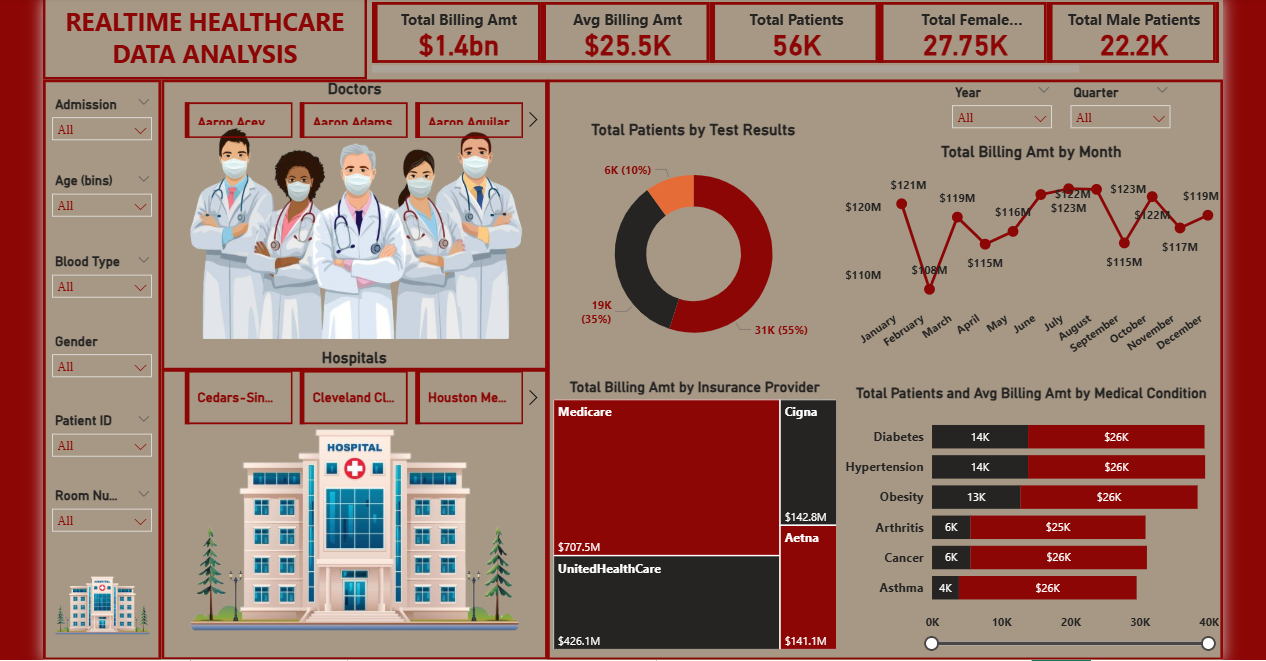

The dashboard page shown, as its layout file describes it:
{"tool":"powerbi","page":{"name":"MAIN PAGE","canvas":[1280,720],"ordinal":0},"visuals":[{"type":"shape","box":[547.1,89.6,733.2,629.8],"z":0},{"type":"image","box":[128.2,89.6,419,317],"z":1000},{"type":"shape","box":[128.2,89.6,419,315.6],"z":2000},{"type":"shape","box":[0,89.6,128.2,629.8],"z":3000},{"type":"textbox","box":[0,0,351.4,89.6],"z":4000},{"type":"cardVisual","fields":{"Data":["MEASURE TABLE.Total Billing Amt","MEASURE TABLE.Avg Billing Amt","MEASURE TABLE.Total Patients","MEASURE TABLE.Total Female Patients","MEASURE TABLE.Total Male Patients","MEASURE TABLE.Non-Binary Patients"]},"box":[351.4,0,928.9,89.6],"z":5000},{"type":"shape","box":[128.2,403.8,419,315.6],"z":6000},{"type":"image","box":[128.2,435.5,419,283.9],"z":7000},{"type":"advancedSlicerVisual","fields":{"Values":["Data.Doctor"]},"box":[128.2,89.6,419,68.9],"z":8000},{"type":"advancedSlicerVisual","fields":{"Values":["Data.Hospital"]},"box":[128.5,380.6,418,87.8],"z":9000},{"type":"slicer","fields":{"Values":["Data.Admission Type"]},"box":[0,102,128.2,74.4],"z":10000},{"type":"slicer","fields":{"Values":["Data.Age (bins)"]},"box":[0,186,128.2,74.4],"z":11000},{"type":"slicer","fields":{"Values":["Data.Patient ID"]},"box":[0,445.1,128.2,74.4],"z":12000},{"type":"slicer","fields":{"Values":["Data.Blood Type"]},"box":[0,272.9,128.2,74.4],"z":13000},{"type":"slicer","fields":{"Values":["Data.Gender"]},"box":[0,359.7,128.2,74.4],"z":14000},{"type":"image","box":[0,606.4,128.2,106.1],"z":15000},{"type":"donutChart","fields":{"Category":["Data.Test Results"],"Y":["MEASURE TABLE.Total Patients"]},"box":[546.5,133.9,317.3,270.2],"z":16000},{"type":"treemap","fields":{"Group":["Data.Insurance Provider"],"Values":["MEASURE TABLE.Total Billing Amt"]},"box":[547.7,413.8,317.3,299.2],"z":17000},{"type":"barChart","fields":{"Category":["Data.Medical Condition"],"Y":["MEASURE TABLE.Total Patients","MEASURE TABLE.Avg Billing Amt"]},"box":[864.1,420.3,416.2,292.2],"z":18000},{"type":"slicer","fields":{"Values":["Data.Room Number"]},"box":[0,526.4,128.2,74.4],"z":19000},{"type":"lineChart","fields":{"Category":["Admission_Date.Date.Variation.Date Hierarchy.Month"],"Y":["MEASURE TABLE.Total Billing Amt"]},"box":[864.1,158.5,416.2,248.1],"z":20000},{"type":"slicer","fields":{"Values":["Admission_Date.Date.Variation.Date Hierarchy.Quarter"]},"box":[1103.9,89.6,128.2,68.9],"z":21000},{"type":"slicer","fields":{"Values":["Admission_Date.Date.Variation.Date Hierarchy.Year"]},"box":[975.7,89.6,128.2,68.9],"z":22000}]}

Visuals, with their boxes on the page's 1280x720 design canvas (x1, y1, x2, y2). These are canvas units, not pixel positions in the 1266x661 screenshot, which may show the page scaled, cropped or inside an application window:
shape: box=[547, 90, 1280, 719]
image: box=[128, 90, 547, 407]
shape: box=[128, 90, 547, 405]
shape: box=[0, 90, 128, 719]
textbox: box=[0, 0, 351, 90]
cardVisual - MEASURE TABLE.Total Billing Amt x MEASURE TABLE.Avg Billing Amt: box=[351, 0, 1280, 90]
shape: box=[128, 404, 547, 719]
image: box=[128, 436, 547, 719]
advancedSlicerVisual - Data.Doctor: box=[128, 90, 547, 158]
advancedSlicerVisual - Data.Hospital: box=[128, 381, 546, 468]
slicer - Data.Admission Type: box=[0, 102, 128, 176]
slicer - Data.Age (bins): box=[0, 186, 128, 260]
slicer - Data.Patient ID: box=[0, 445, 128, 520]
slicer - Data.Blood Type: box=[0, 273, 128, 347]
slicer - Data.Gender: box=[0, 360, 128, 434]
image: box=[0, 606, 128, 712]
donutChart - Data.Test Results x MEASURE TABLE.Total Patients: box=[546, 134, 864, 404]
treemap - Data.Insurance Provider x MEASURE TABLE.Total Billing Amt: box=[548, 414, 865, 713]
barChart - Data.Medical Condition x MEASURE TABLE.Total Patients: box=[864, 420, 1280, 712]
slicer - Data.Room Number: box=[0, 526, 128, 601]
lineChart - Admission_Date.Date.Variation.Date Hierarchy.Month x MEASURE TABLE.Total Billing Amt: box=[864, 158, 1280, 407]
slicer - Admission_Date.Date.Variation.Date Hierarchy.Quarter: box=[1104, 90, 1232, 158]
slicer - Admission_Date.Date.Variation.Date Hierarchy.Year: box=[976, 90, 1104, 158]
